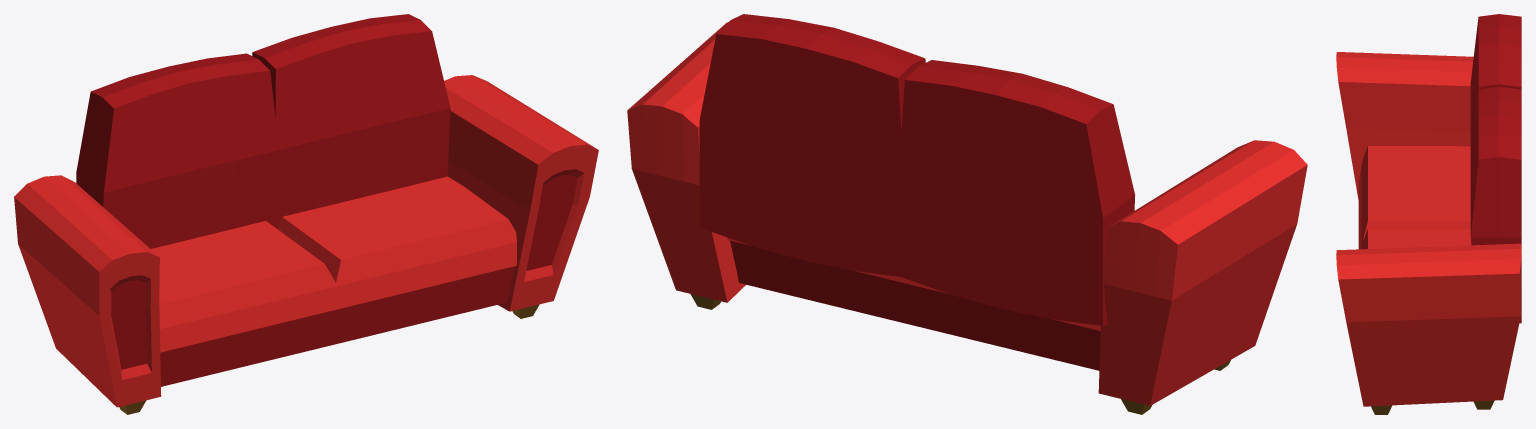
File: sofa.fbx
3 views of the same model, side by side, from view 1: azimuth 30°, elevation 25°; view 2: azimuth 150°, elevation 25°; view 3: azimuth 270°, elevation 25° (orthographic). The views are drawn at different scales.
Visible parts, largest first — view 1: Cube; view 2: Cube, Cube.001; view 3: Cube, Cube.001.
Part boxes in pixels (box(x1,y1,x2,y2)): Cube: box(14, 14, 598, 407); Cube: box(627, 14, 1307, 405); Cube.001: box(690, 294, 1230, 414); Cube: box(1336, 14, 1521, 406); Cube.001: box(1371, 400, 1494, 414).
Bounding box in the file's own units: 348 × 176 × 121.
